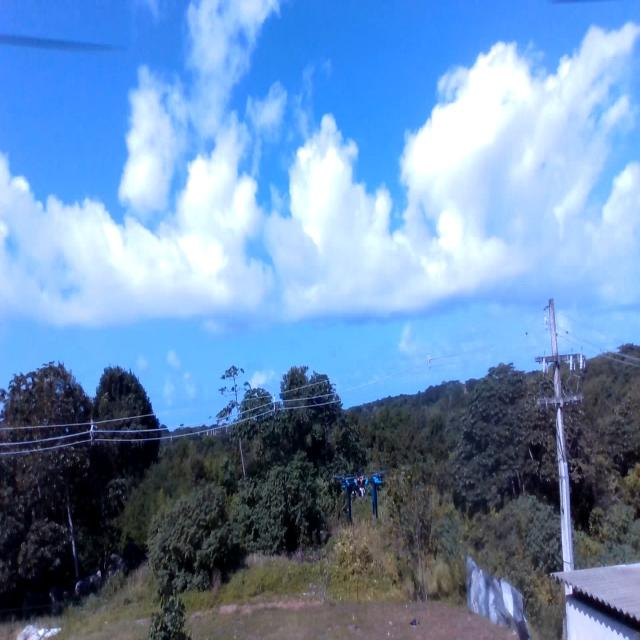-uav-: (332, 462, 392, 538)
